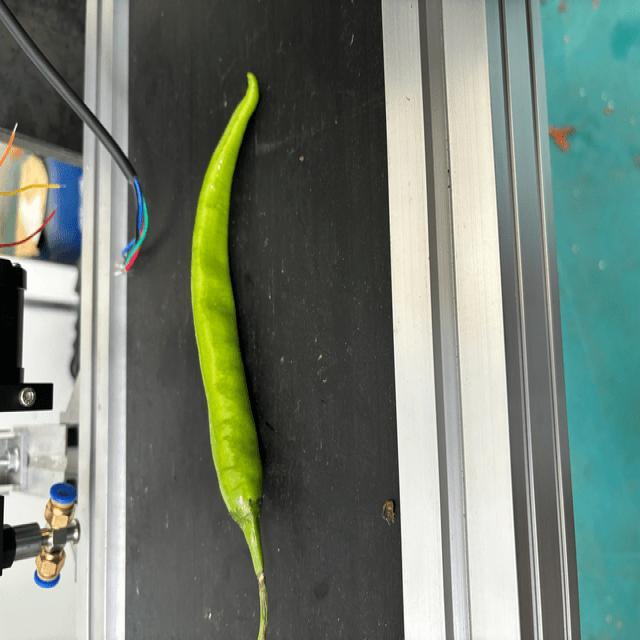chili: (189, 68, 264, 540)
